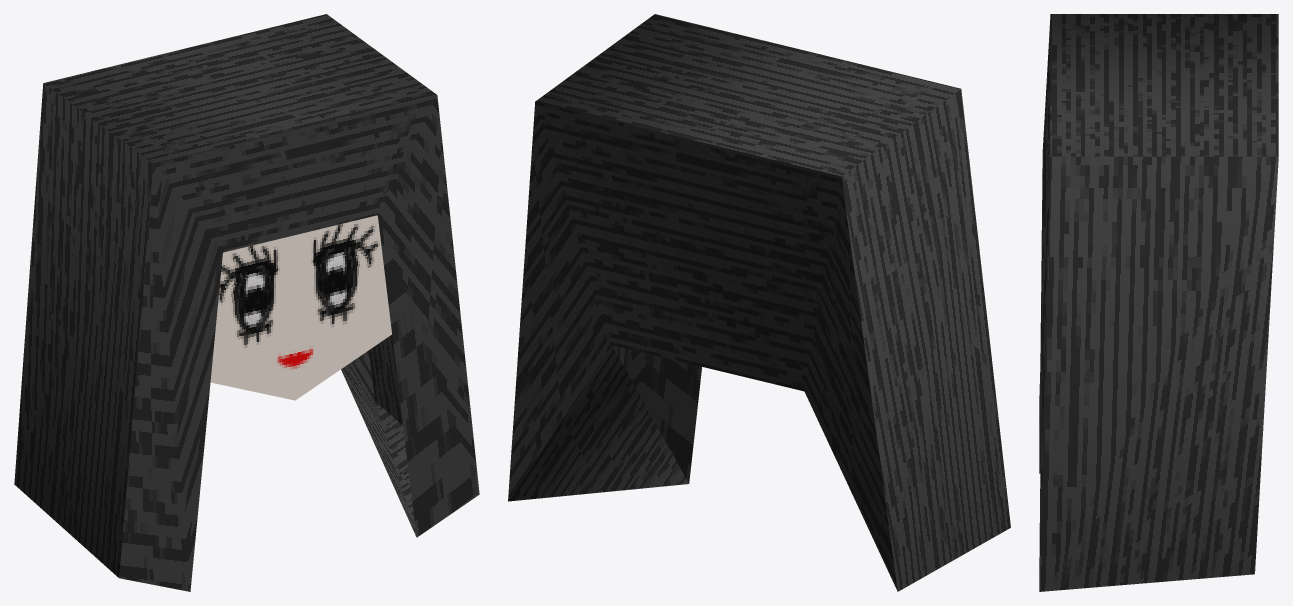
The model's file is C_GH_Head_F4.FBX.
3 views of the same model, side by side, from view 1: azimuth 30°, elevation 25°; view 2: azimuth 150°, elevation 25°; view 3: azimuth 270°, elevation 25° (orthographic). The views are drawn at different scales.
Visible parts, largest first — view 1: Hair, Face; view 2: Hair; view 3: Hair.
Part boxes in pixels (x1,y1,x2,y2): Hair: (14,14,479,591); Face: (210,215,391,400); Hair: (508,14,1010,591); Hair: (1039,14,1278,591).
Bounding box in the file's own units: 34.23 × 39.21 × 19.11.
Materials: 2 (2 with a texture image).
